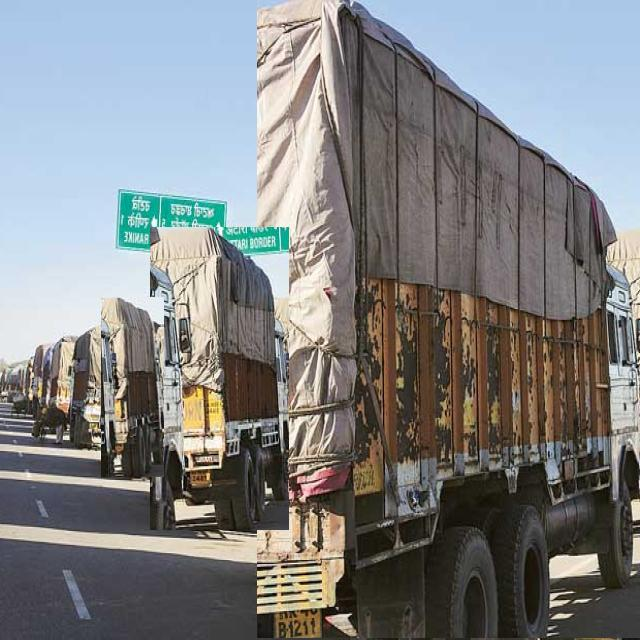truck: (257, 0, 640, 638), (150, 227, 289, 530), (101, 297, 164, 477)
